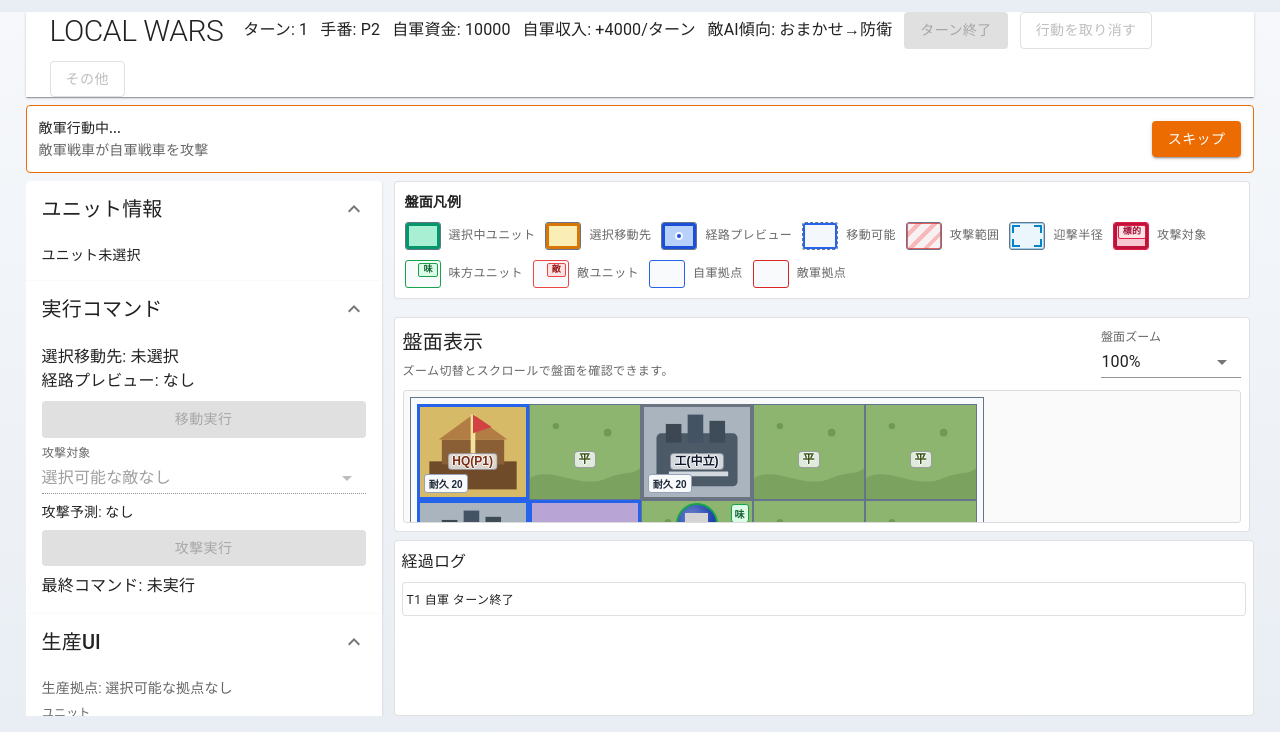
Test: BattleScreen UIテスト: 情報表示と導線 › AI再生バナーが敵軍ターン中に表示され、スキップで自軍ターンへ戻る
Check: the heading "敵軍行動中..." is shown, box 39,120 -> 121,136
Click the button "スキップ".
click(1197, 139)  # box 1152,121 -> 1241,157
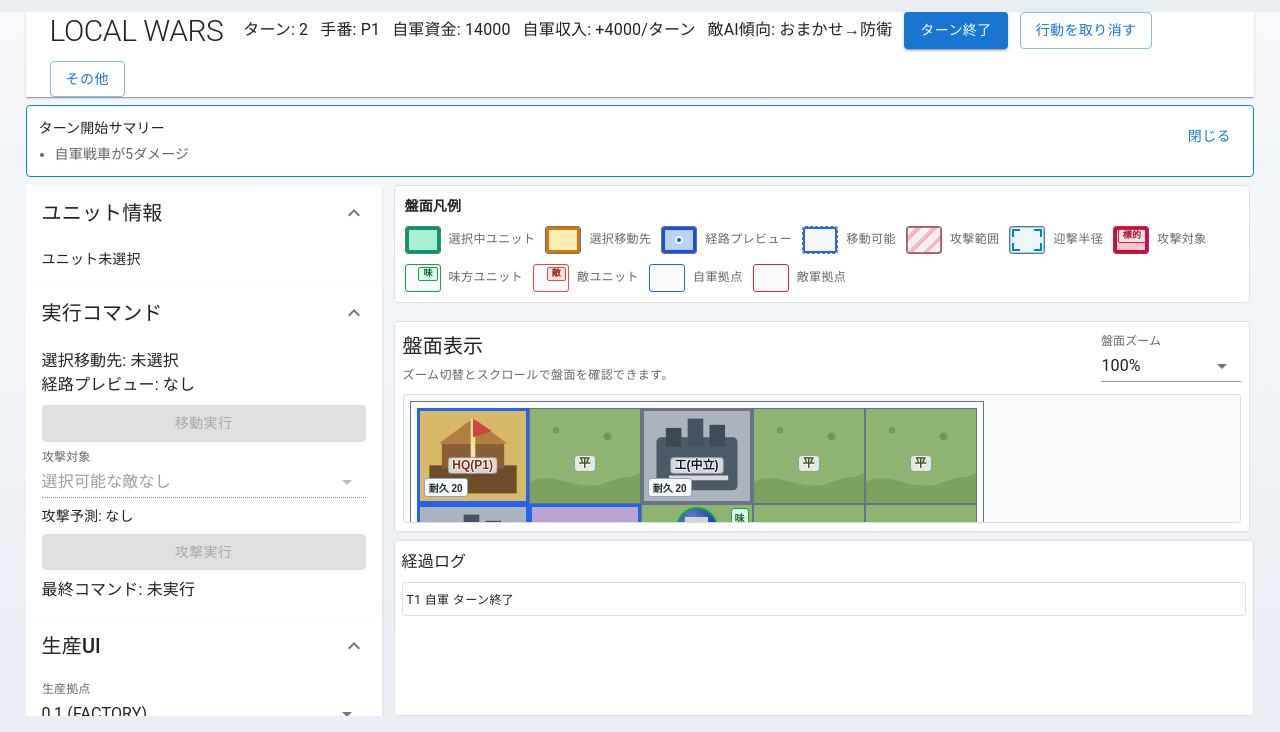
Check: the heading "敵軍行動中..." is gone
Check: the text "手番: P1" is shown, box 320,18 -> 380,42
